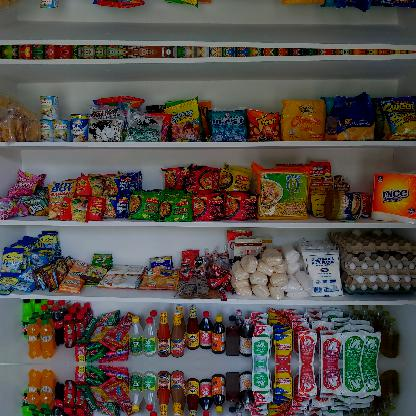Lady-s-Choice: (324, 188, 362, 219)
